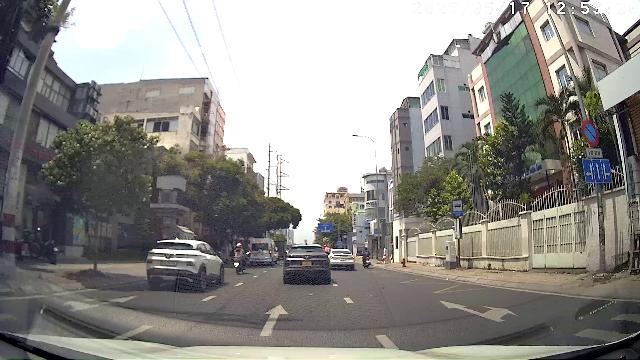131a-cam-do-xe: (582, 119, 599, 146)
